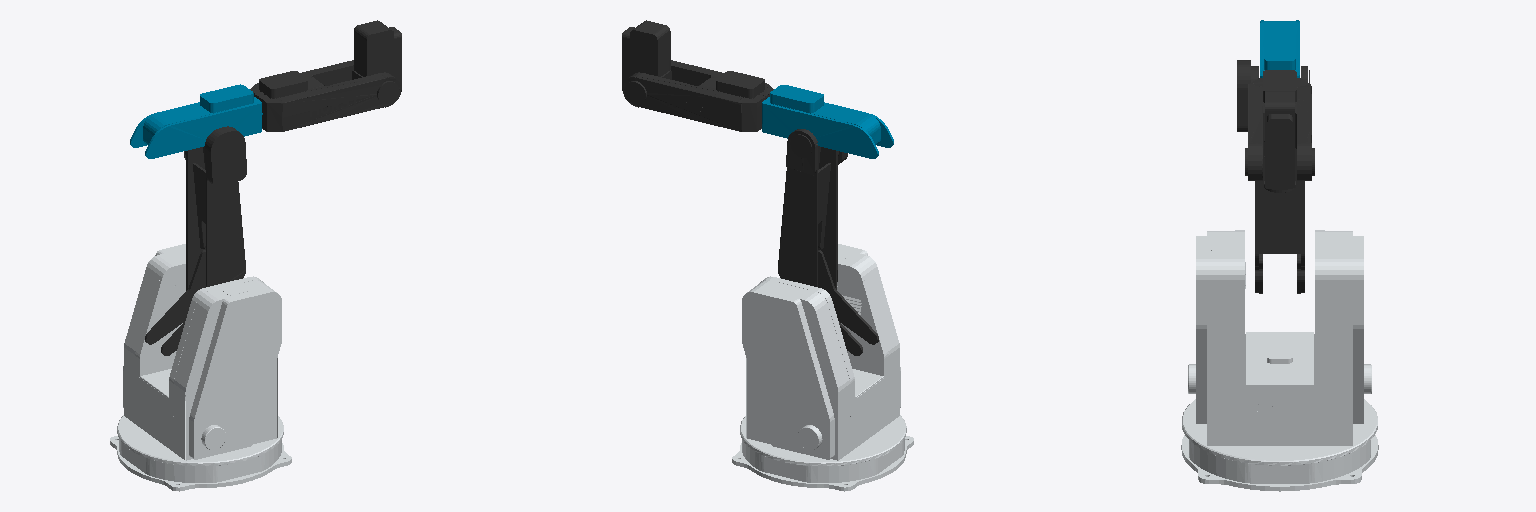
The robot description file, URDF, robot "Horst900_urdf":
<?xml version="1.0" encoding="utf-8"?>
<!-- This URDF was automatically created by SolidWorks to URDF Exporter! Originally created by [author] ([email redacted]) 
     Commit Version: 1.6.0-4-g7f85cfe  Build Version: 1.6.7995.38578
     For more information, please see http://wiki.ros.org/sw_urdf_exporter -->
<robot
  name="Horst900_urdf">
  <link
    name="base_link">
    <inertial>
      <origin
        xyz="0 -0.3825 -0.382"
        rpy="-1.57079632679 0 0" />
      <mass
        value="1.21" />
      <inertia
        ixx="0.011177"
        ixy="-7.4313E-08"
        ixz="-1.2107E-13"
        iyy="0.011689"
        iyz="-8.7273E-11"
        izz="0.022837" />
    </inertial>
    <visual>
      <origin
        xyz="0 -0.3825 -0.382"
        rpy="-1.57079632679 0 0" />  <!-- "-1.57079632679" fuer 90 grad drehung-->
      <geometry>
        <mesh
          filename="package://Horst900_urdf/meshes/base_link.STL" />
      </geometry>
      <material
        name="">
        <color
          rgba="0.89804 0.91765 0.92941 1" />
      </material>
    </visual>
    <collision>
      <origin
        xyz="0 -0.3825 -0.382"
        rpy="-1.57079632679 0 0" />
      <geometry>
        <mesh
          filename="package://Horst900_urdf/meshes/base_link.STL" />
      </geometry>
    </collision>
  </link>
  <link
    name="Link1">
    <inertial>
      <origin
        xyz="0 0 0" 
        rpy="0 0 0" />
      <mass
        value="0.06735" />
      <inertia
        ixx="1.3452E-05"
        ixy="2.57E-10"
        ixz="5.3266E-22"
        iyy="2.558E-05"
        iyz="9.6363E-22"
        izz="1.3706E-05" />
    </inertial>
    <visual>
      <origin
        xyz="0 0 0" 
        rpy="0 0 0" />
      <geometry>
        <mesh
          filename="package://Horst900_urdf/meshes/Link1.STL" />
      </geometry>
      <material
        name="">
        <color
          rgba="0.89804 0.91765 0.92941 1" />
      </material>
    </visual>
    <collision>
      <origin
        xyz="0 0 0" 
        rpy="0 0 0" />
      <geometry>
        <mesh
          filename="package://Horst900_urdf/meshes/Link1.STL" />
      </geometry>
    </collision>
  </link>
  <joint
    name="Joint1"
    type="revolute">
    <origin
      xyz="0.02505 -0.3825 2.8818E-05"
      rpy="1.57079632679 0 0" />
    <parent
      link="base_link" />
    <child
      link="Link1" />
    <axis
      xyz="0 1 0" />
    <limit
      lower="0"
      upper="0"
      effort="0"
      velocity="0" />
  </joint>
  <link
    name="Link2">
    <inertial>
      <origin
        xyz="-0.029702 -0.40976 -4.6582E-09"
        rpy="0 0 0" />
      <mass
        value="0.22367" />
      <inertia
        ixx="0.00056209"
        ixy="-0.00045945"
        ixz="-7.5228E-12"
        iyy="0.00056962"
        iyz="-1.4504E-11"
        izz="0.0011293" />
    </inertial>
    <visual>
      <origin
        xyz="0 0 0"
        rpy="0 0 0" />
      <geometry>
        <mesh
          filename="package://Horst900_urdf/meshes/Link2.STL" />
      </geometry>
      <material
        name="">
        <color
          rgba="0.25098 0.25098 0.25098 1" />
      </material>
    </visual>
    <collision>
      <origin
        xyz="0 0 0"
        rpy="0 0 0" />
      <geometry>
        <mesh
          filename="package://Horst900_urdf/meshes/Link2.STL" />
      </geometry>
    </collision>
  </link>
  <joint
    name="Joint2"
    type="revolute">
    <origin
      xyz="-0.00038936 0.40659 5.3774E-05"
      rpy="0 0 0" />
    <parent
      link="Link1" />
    <child
      link="Link2" />
    <axis
      xyz="0 0 -1" />
    <limit
      lower="0"
      upper="0"
      effort="0"
      velocity="0" />
  </joint>
  <link
    name="Link3">
    <inertial>
      <origin
        xyz="1.0238E-07 -0.00040062 -0.15402"
        rpy="0 0 0" />
      <mass
        value="0.25309" />
      <inertia
        ixx="0.00057293"
        ixy="-1.7292E-10"
        ixz="-6.921E-10"
        iyy="0.00051593"
        iyz="-1.8197E-05"
        izz="8.4556E-05" />
    </inertial>
    <visual>
      <origin
        xyz="0 0 0"
        rpy="0 0 0" />
      <geometry>
        <mesh
          filename="package://Horst900_urdf/meshes/Link3.STL" />
      </geometry>
      <material
        name="">
        <color
          rgba="0 0.54902 0.70588 1" />
      </material>
    </visual>
    <collision>
      <origin
        xyz="0 0 0"
        rpy="0 0 0" />
      <geometry>
        <mesh
          filename="package://Horst900_urdf/meshes/Link3.STL" />
      </geometry>
    </collision>
  </link>
  <joint
    name="Joint3"
    type="revolute">
    <origin
      xyz="0.13873 0.03648 0"
      rpy="0 1.5708 0" />
    <parent
      link="Link2" />
    <child
      link="Link3" />
    <axis
      xyz="1 0 0" />
    <limit
      lower="0"
      upper="0"
      effort="0"
      velocity="0" />
  </joint>
  <link
    name="Link4">
    <inertial>
      <origin
        xyz="0.11141 -0.0035332 -0.00016495"
        rpy="0 0 0" />
      <mass
        value="0.038503" />
      <inertia
        ixx="6.2907E-05"
        ixy="-2.0171E-05"
        ixz="-3.1267E-08"
        iyy="0.00024462"
        iyz="-7.0774E-09"
        izz="0.00022597" />
    </inertial>
    <visual>
      <origin
        xyz="0 0 0"
        rpy="0 0 0" />
      <geometry>
        <mesh
          filename="package://Horst900_urdf/meshes/Link4.STL" />
      </geometry>
      <material
        name="">
        <color
          rgba="0.25098 0.25098 0.25098 1" />
      </material>
    </visual>
    <collision>
      <origin
        xyz="0 0 0"
        rpy="0 0 0" />
      <geometry>
        <mesh
          filename="package://Horst900_urdf/meshes/Link4.STL" />
      </geometry>
    </collision>
  </link>
  <joint
    name="Joint4"
    type="revolute">
    <origin
      xyz="-0.0002 0 0.292"
      rpy="0 1.5708 0" />
    <parent
      link="Link3" />
    <child
      link="Link4" />
    <axis
      xyz="0 0 1" />
    <limit
      lower="0"
      upper="0"
      effort="0"
      velocity="0" />
  </joint>
  <link
    name="Link5">
    <inertial>
      <origin
        xyz="-0.01505 1.1344E-07 -0.064247"
        rpy="0 0 0" />
      <mass
        value="0.025507" />
      <inertia
        ixx="2.1268E-05"
        ixy="1.0397E-11"
        ixz="-2.7343E-07"
        iyy="1.9292E-05"
        iyz="2.3385E-11"
        izz="1.2407E-05" />
    </inertial>
    <visual>
      <origin
        xyz="0 0 0"
        rpy="0 0 0" />
      <geometry>
        <mesh
          filename="package://Horst900_urdf/meshes/Link5.STL" />
      </geometry>
      <material
        name="">
        <color
          rgba="0.25098 0.25098 0.25098 1" />
      </material>
    </visual>
    <collision>
      <origin
        xyz="0 0 0"
        rpy="0 0 0" />
      <geometry>
        <mesh
          filename="package://Horst900_urdf/meshes/Link5.STL" />
      </geometry>
    </collision>
  </link>
  <joint
    name="Joint5"
    type="revolute">
    <origin
      xyz="-0.0001 -0.03975 0"
      rpy="-1.5708 0 3.1416" />
    <parent
      link="Link4" />
    <child
      link="Link5" />
    <axis
      xyz="0 0 -1" />
    <limit
      lower="0"
      upper="0"
      effort="0"
      velocity="0" />
  </joint>
  <link
    name="Link6">
    <inertial>
      <origin
        xyz="0.00032332 -0.44132 0.57131"
        rpy="0 0 0" />
      <mass
        value="1.8181" />
      <inertia
        ixx="0.20278"
        ixy="7.6264E-06"
        ixz="1.8596E-05"
        iyy="0.19047"
        iyz="0.01729"
        izz="0.036763" />
    </inertial>
    <visual>
      <origin
        xyz="0 0 0"
        rpy="0 0 0" />
      <geometry>
        <mesh
          filename="package://Horst900_urdf/meshes/Link6.STL" />
      </geometry>
      <material
        name="">
        <color
          rgba="0.25098 0.25098 0.25098 1" />
      </material>
    </visual>
    <collision>
      <origin
        xyz="0 0 0"
        rpy="0 0 0" />
      <geometry>
        <mesh
          filename="package://Horst900_urdf/meshes/Link6.STL" />
      </geometry>
    </collision>
  </link>
  <joint
    name="Joint6"
    type="revolute">
    <origin
      xyz="0 0 0.012"
      rpy="0 0 -1.5708" />
    <parent
      link="Link5" />
    <child
      link="Link6" />
    <axis
      xyz="0 0 -1" />
    <limit
      lower="0"
      upper="0"
      effort="0"
      velocity="0" />
  </joint>
</robot>

--- Facts derived from the render (not from the file) ---
3 views of the same robot in one strip: view 1: azimuth 30°, elevation 25°; view 2: azimuth 150°, elevation 25°; view 3: azimuth 270°, elevation 25° (orthographic).
Model Horst900_urdf with 7 links and 6 joints (6 revolute), rooted at base_link, posed all joints at 0.
Links seen in each view (by area): view 1: Link1, Link2, Link4, Link3, base_link, Link5; view 2: Link1, Link2, Link4, Link3, base_link, Link5; view 3: Link1, base_link, Link2, Link4, Link5, Link3.
Link boxes in pixels (x1,y1,x2,y2): Link1: (117,244,283,465); Link2: (145,126,246,355); Link4: (250,60,401,131); Link3: (130,84,262,158); base_link: (110,436,291,491); Link5: (352,20,401,91); Link1: (740,244,906,465); Link2: (778,129,878,355); Link4: (622,60,773,131); Link3: (762,85,893,158); base_link: (732,436,913,491); Link5: (622,20,671,90); Link1: (1182,230,1377,465); base_link: (1181,435,1378,491); Link2: (1237,60,1309,293); Link4: (1245,70,1314,180); Link5: (1264,91,1294,189); Link3: (1260,20,1299,77).
Bounding box of the posed robot: 0.7062 × 0.38 × 0.9629 m (x, y, z).
7 mesh visuals loaded from 7 distinct referenced files (7 binary STL).
